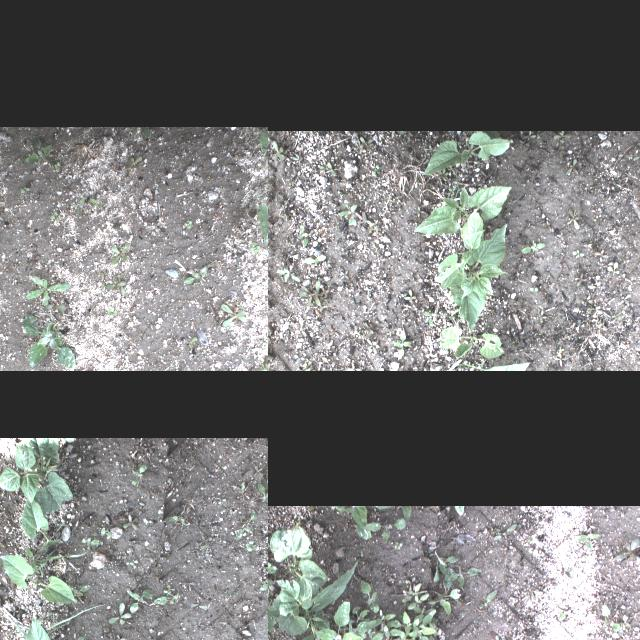crop: (268, 523, 357, 640), (433, 223, 507, 334), (0, 439, 71, 517), (412, 185, 512, 235), (422, 132, 508, 174), (1, 554, 75, 602), (19, 316, 76, 371), (20, 496, 61, 552), (440, 327, 504, 359), (22, 616, 85, 640), (460, 210, 484, 272), (256, 180, 268, 246)
weed: (0, 604, 106, 636), (332, 508, 412, 548), (354, 604, 436, 640), (306, 600, 365, 640), (430, 550, 482, 588), (24, 276, 72, 316), (596, 600, 638, 634), (424, 586, 462, 614), (22, 136, 54, 168), (609, 534, 640, 565), (358, 576, 382, 614), (486, 520, 516, 550), (178, 263, 212, 289), (402, 575, 426, 611), (574, 524, 604, 552), (99, 272, 128, 300), (218, 302, 248, 328), (106, 240, 134, 266), (126, 588, 154, 614), (472, 588, 500, 614), (298, 280, 322, 308), (39, 548, 87, 562), (427, 306, 465, 322), (108, 600, 130, 626), (528, 579, 554, 601), (391, 330, 411, 358), (268, 546, 281, 589), (152, 585, 178, 605), (337, 202, 357, 226), (512, 588, 530, 614), (366, 511, 402, 524), (518, 528, 544, 544), (120, 154, 142, 172), (444, 160, 458, 188), (22, 254, 46, 270), (276, 266, 300, 282), (66, 586, 90, 602), (268, 139, 285, 161), (450, 362, 490, 371), (448, 531, 478, 543), (178, 336, 200, 352), (85, 195, 105, 212), (130, 462, 144, 486), (240, 512, 256, 532), (48, 211, 66, 227), (520, 241, 544, 253), (302, 254, 326, 266), (209, 206, 223, 226), (71, 193, 85, 213), (16, 185, 36, 199), (567, 208, 579, 230), (257, 483, 268, 507), (608, 306, 624, 322), (565, 157, 579, 175), (51, 160, 65, 177), (102, 308, 116, 324), (358, 136, 372, 152), (558, 606, 572, 622), (297, 224, 307, 246), (91, 526, 113, 536), (122, 517, 140, 529), (552, 132, 572, 142), (27, 549, 37, 569), (249, 240, 263, 254), (616, 273, 630, 287), (573, 272, 587, 286), (325, 162, 339, 176), (365, 218, 379, 232), (616, 294, 632, 306), (592, 250, 608, 262), (554, 352, 566, 368), (358, 142, 374, 154), (404, 288, 416, 304), (365, 338, 377, 354), (168, 515, 186, 525), (189, 598, 207, 608), (180, 582, 198, 592), (605, 263, 619, 275), (435, 168, 449, 180), (254, 582, 268, 594), (451, 507, 465, 519), (391, 539, 405, 551), (352, 547, 366, 559), (586, 305, 602, 315), (80, 538, 100, 546), (182, 220, 194, 232), (290, 154, 302, 166), (244, 538, 256, 550), (34, 614, 52, 622), (300, 360, 313, 371), (586, 282, 600, 292), (536, 130, 546, 144), (504, 139, 514, 153), (538, 309, 548, 323), (423, 312, 433, 326), (412, 205, 423, 217), (197, 536, 210, 546), (488, 634, 509, 640), (582, 294, 592, 306), (553, 135, 563, 147), (345, 363, 360, 371), (363, 322, 373, 334), (422, 365, 442, 371), (570, 249, 584, 257), (521, 130, 535, 138), (317, 293, 328, 303), (338, 269, 348, 279), (283, 176, 293, 186), (354, 140, 364, 150), (446, 185, 456, 195), (319, 286, 329, 296), (9, 606, 19, 616), (257, 338, 268, 347), (438, 168, 446, 180), (237, 482, 245, 494), (632, 153, 640, 164), (112, 634, 126, 640), (596, 318, 604, 328), (555, 232, 565, 240), (371, 164, 379, 174), (391, 131, 403, 137), (67, 636, 85, 640), (216, 497, 224, 505), (319, 166, 329, 172), (529, 286, 537, 292), (130, 560, 136, 568), (264, 248, 268, 257), (146, 518, 152, 524), (480, 362, 484, 368), (406, 351, 412, 353)
